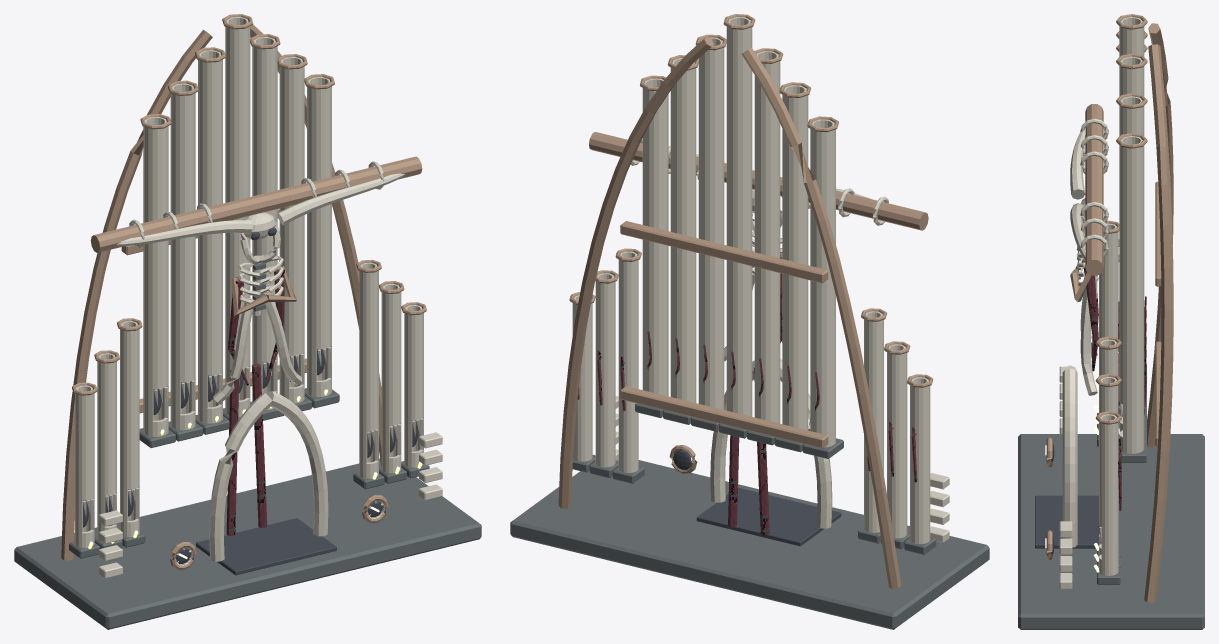
File: processional_pipe_choir.glb
3 views of the same model, side by side, from view 1: azimuth 30°, elevation 25°; view 2: azimuth 150°, elevation 25°; view 3: azimuth 270°, elevation 25° (orthographic). The views are drawn at different scales.
Parts seen in each view (by area): view 1: processional_pipe_choir_warm, processional_pipe_choir_petrol, processional_pipe_choir_worn, processional_pipe_choir_deep, processional_pipe_choir_bruised; view 2: processional_pipe_choir_warm, processional_pipe_choir_petrol, processional_pipe_choir_worn, processional_pipe_choir_deep, processional_pipe_choir_bruised; view 3: processional_pipe_choir_petrol, processional_pipe_choir_warm, processional_pipe_choir_worn, processional_pipe_choir_deep, processional_pipe_choir_bruised.
Part boxes in pixels (x1,y1,x2,y2): processional_pipe_choir_warm: [75, 17, 442, 578]; processional_pipe_choir_petrol: [14, 262, 481, 629]; processional_pipe_choir_worn: [61, 14, 426, 569]; processional_pipe_choir_deep: [83, 227, 418, 575]; processional_pipe_choir_bruised: [226, 269, 284, 535]; processional_pipe_choir_warm: [572, 17, 949, 543]; processional_pipe_choir_petrol: [510, 403, 989, 629]; processional_pipe_choir_worn: [558, 14, 933, 589]; processional_pipe_choir_deep: [673, 450, 841, 546]; processional_pipe_choir_bruised: [577, 255, 917, 535]; processional_pipe_choir_petrol: [1018, 365, 1204, 629]; processional_pipe_choir_warm: [1047, 17, 1144, 589]; processional_pipe_choir_worn: [1046, 14, 1173, 602]; processional_pipe_choir_deep: [1035, 443, 1099, 554]; processional_pipe_choir_bruised: [1083, 267, 1146, 510].
Bounding box in the file's own units: 6.35 × 8.45 × 2.75.
6 materials, 1 textured.
